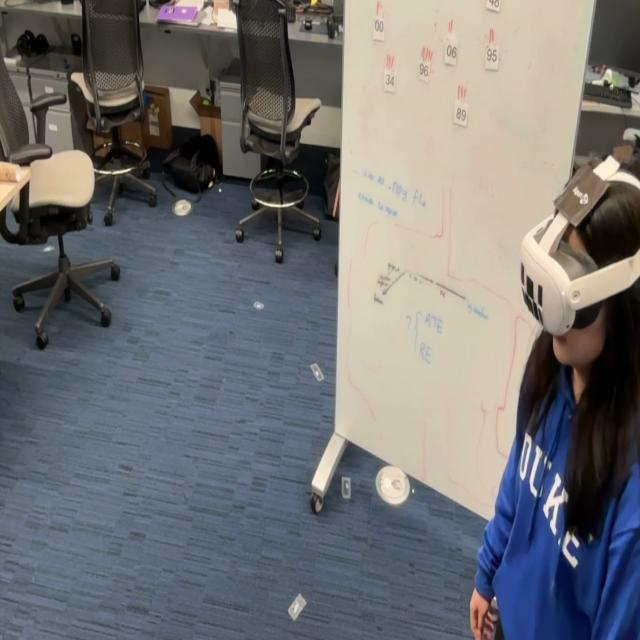Headset: (519, 153, 639, 338)
UnityLogo: (552, 159, 609, 230)
